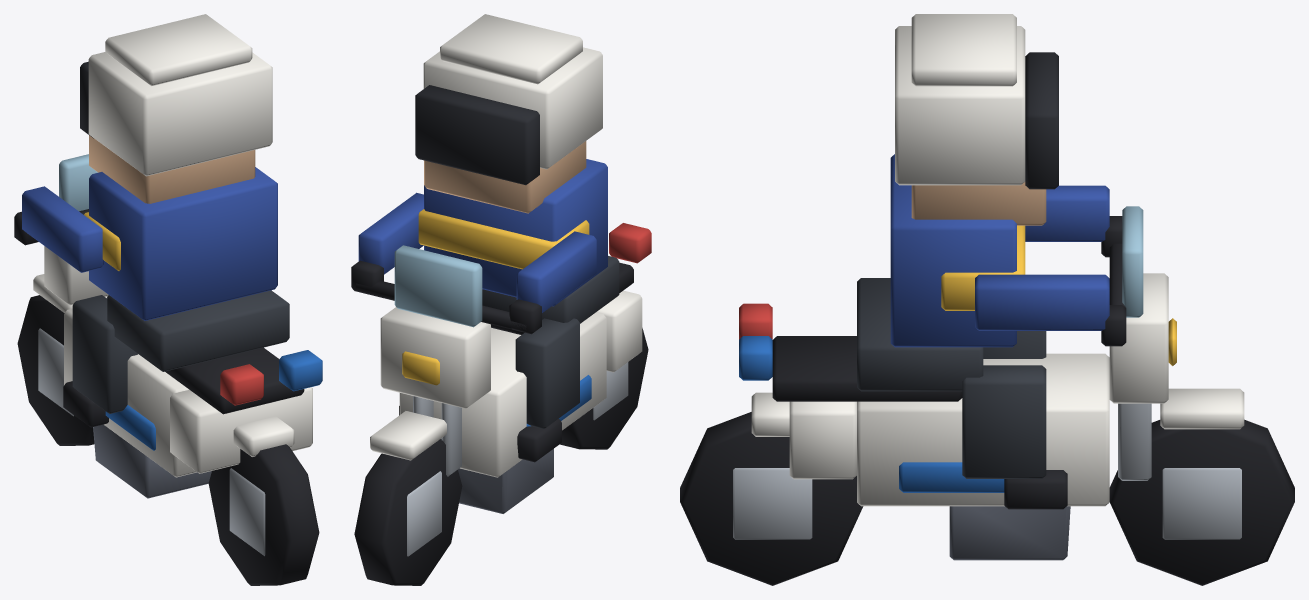
File: H_MotorPolice.fbx
3 renders of one model, left to right at view 1: azimuth 30°, elevation 25°; view 2: azimuth 150°, elevation 25°; view 3: azimuth 270°, elevation 25°, orthographic. The views are drawn at different scales.
Parts seen in each view (by area): view 1: H_MotorPolice; view 2: H_MotorPolice; view 3: H_MotorPolice.
Part boxes in pixels (<box>): H_MotorPolice: <box>14,14,322,585</box>; H_MotorPolice: <box>351,14,651,585</box>; H_MotorPolice: <box>680,14,1294,585</box>.
Size of the model in its own units: 0.58 by 1.41 by 1.46.
Materials: 1 (1 with a texture image).
